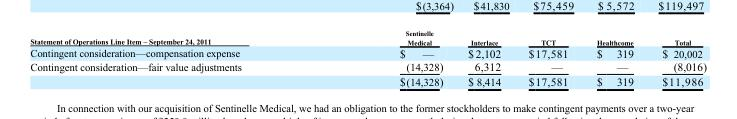table: (29, 28, 705, 87)
table column: (29, 28, 319, 87), (319, 28, 454, 87), (513, 28, 581, 87), (581, 28, 647, 87), (454, 28, 513, 87), (647, 28, 705, 87)
table column header: (29, 28, 705, 46)
table row: (29, 28, 705, 46), (29, 59, 705, 73), (29, 73, 705, 87), (29, 46, 705, 59)
